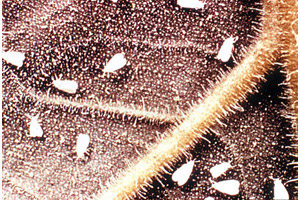whitefly: (171, 157, 197, 186), (99, 53, 127, 79), (215, 34, 237, 65), (206, 179, 240, 197), (47, 75, 78, 94), (73, 131, 91, 163), (267, 174, 289, 200), (209, 159, 233, 180), (25, 113, 45, 138), (1, 48, 25, 67)
